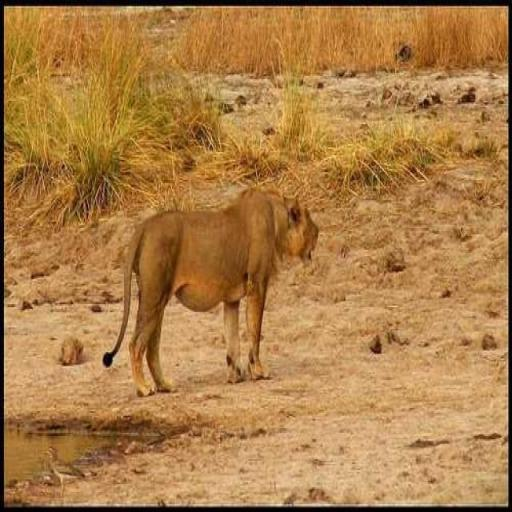Lion: (101, 184, 319, 398)
